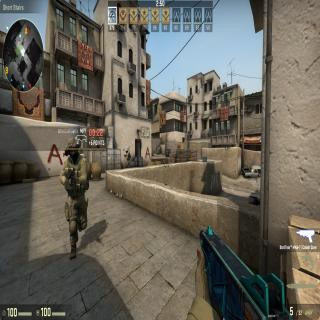CT-Body: (59, 134, 88, 256), (124, 149, 131, 169)
CT-Head: (64, 138, 80, 166), (125, 149, 128, 154)
